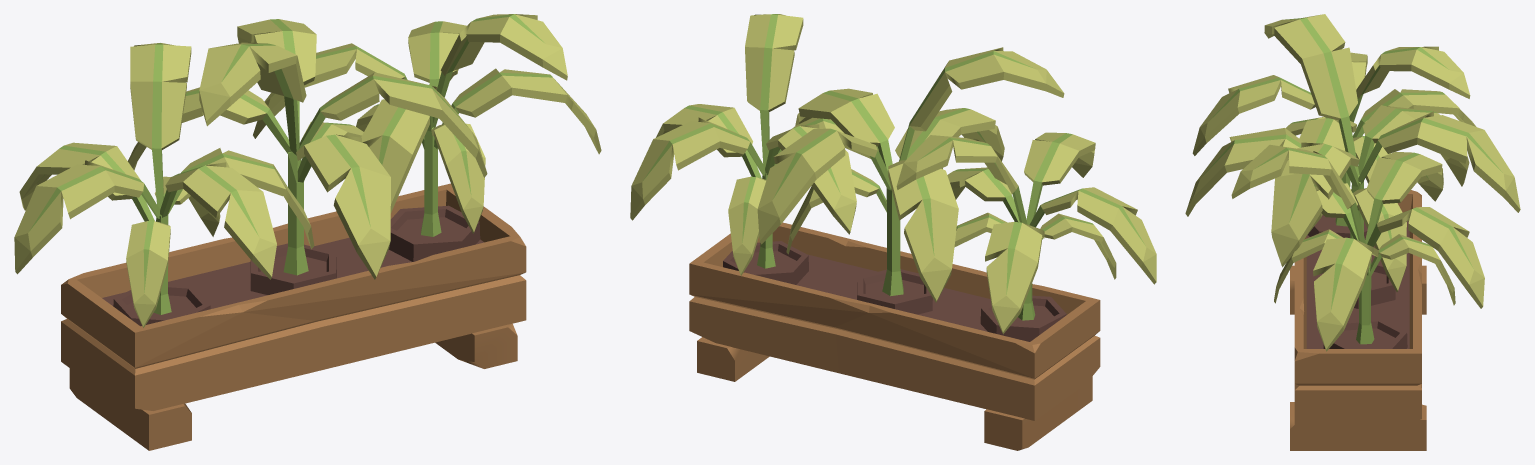
The model's file is Plant_01.FBX.
3 views of the same model, side by side, from view 1: azimuth 30°, elevation 25°; view 2: azimuth 150°, elevation 25°; view 3: azimuth 270°, elevation 25° (orthographic). The views are drawn at different scales.
Parts seen in each view (by area): view 1: Plant_01; view 2: Plant_01; view 3: Plant_01.
Boxes of the visible parts, box(x1,y1,x2,y2) form: Plant_01: box(14, 14, 601, 450); Plant_01: box(630, 14, 1156, 450); Plant_01: box(1185, 14, 1520, 450).
Size of the model in its own units: 243 by 151 by 143.
